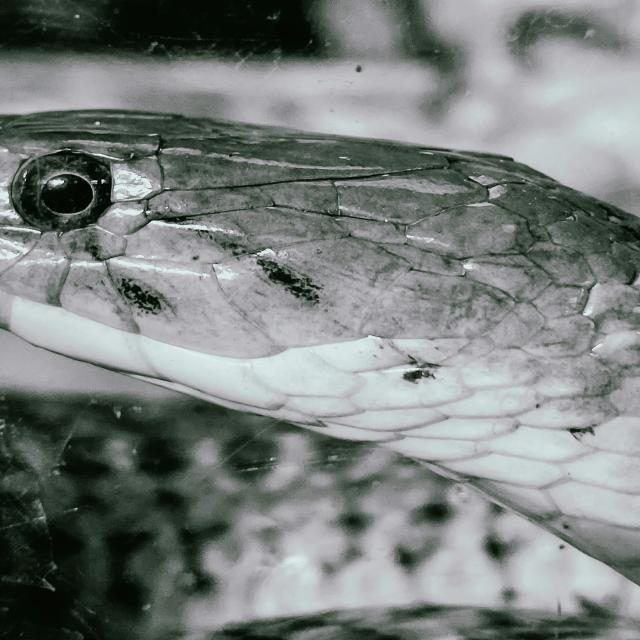snake: (0, 103, 640, 640)
